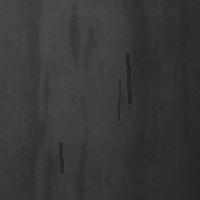inclusion: (120, 3, 163, 197), (8, 3, 48, 197), (68, 90, 95, 198), (174, 2, 193, 147), (63, 2, 94, 77), (125, 51, 131, 105), (116, 77, 121, 122), (58, 140, 63, 174)
